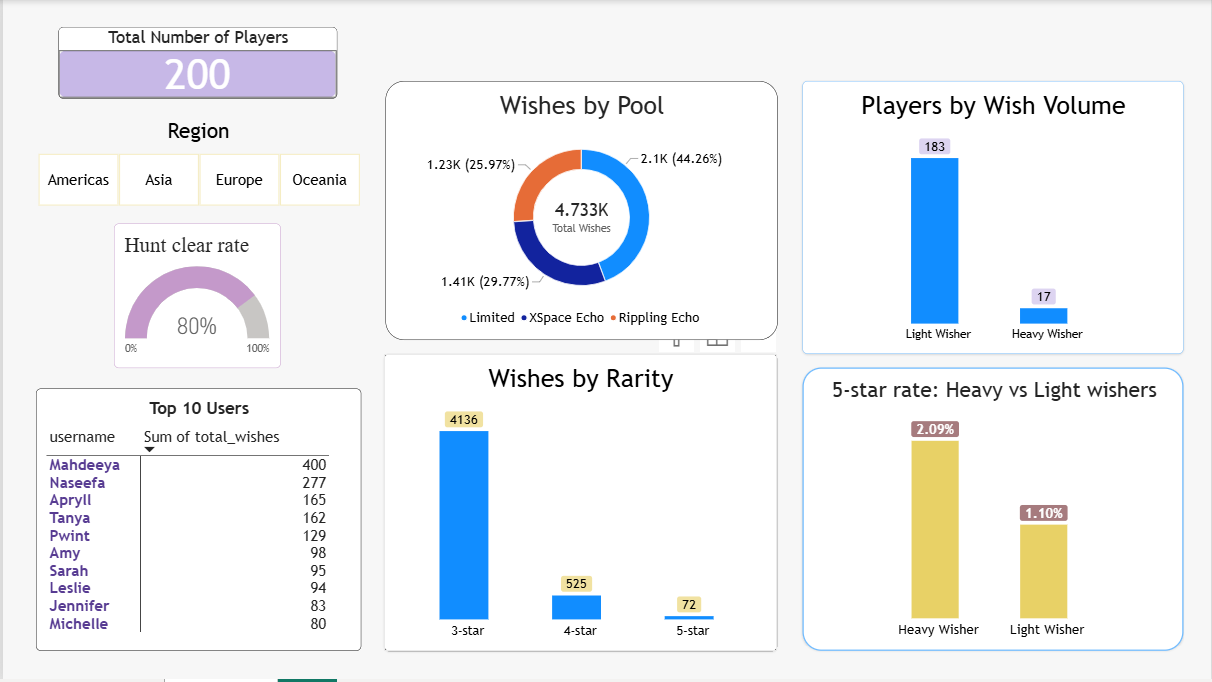

This screenshot's page, from the dashboard's own definition file:
{"tool":"powerbi","page":{"name":"Page 1","canvas":[1920,1080],"ordinal":0},"visuals":[{"type":"columnChart","title":"Wishes by Rarity","fields":{"Category":["wishes.rarity"],"Y":["CountNonNull(wishes.wish_id)"]},"box":[606.7,563.3,625,472.5],"z":0},{"type":"columnChart","title":"Players by Wish Volume","fields":{"Category":["players.puller_type"],"Y":["CountNonNull(players.player_id)"]},"box":[1271.7,128.8,606,434.2],"z":1000},{"type":"columnChart","title":"5-star rate: Heavy vs Light wishers","fields":{"Category":["players.puller_type"],"Y":["wishes.five_star_pct"]},"box":[1271.7,584.5,606,450.9],"z":2000},{"type":"cardVisual","title":"Total Number of Players","fields":{"Data":["CountNonNull(players.player_id)"]},"box":[87.5,43.3,443.3,114.2],"z":3000},{"type":"slicer","title":"Region","fields":{"Values":["players.region"]},"box":[36,188,550,140],"z":4000},{"type":"donutChart","title":"Wishes by Pool","fields":{"Category":["wishes.pool"],"Y":["CountNonNull(wishes.wish_id)"]},"box":[608,128,624,412],"z":5000},{"type":"gauge","title":"Hunt clear rate","fields":{"Y":["hunts.clear_rate"]},"box":[177.5,355,265,230],"z":6000},{"type":"pivotTable","title":"Top 10 Users","fields":{"Rows":["players.username"],"Values":["Sum(players.total_wishes)"]},"box":[52.5,617.5,517.5,417.5],"z":7000}]}

Visuals, with their boxes in screenshot pixels (x1, y1, x2, y2), scaled from the page's 1920x1080 canvas onto the 1212x682 screenshot:
"Wishes by Rarity" columnChart: x1=383, y1=356, x2=778, y2=654
"Players by Wish Volume" columnChart: x1=803, y1=81, x2=1185, y2=356
"5-star rate: Heavy vs Light wishers" columnChart: x1=803, y1=369, x2=1185, y2=654
"Total Number of Players" cardVisual: x1=55, y1=27, x2=335, y2=99
"Region" slicer: x1=23, y1=119, x2=370, y2=207
"Wishes by Pool" donutChart: x1=384, y1=81, x2=778, y2=341
"Hunt clear rate" gauge: x1=112, y1=224, x2=279, y2=369
"Top 10 Users" pivotTable: x1=33, y1=390, x2=360, y2=654
